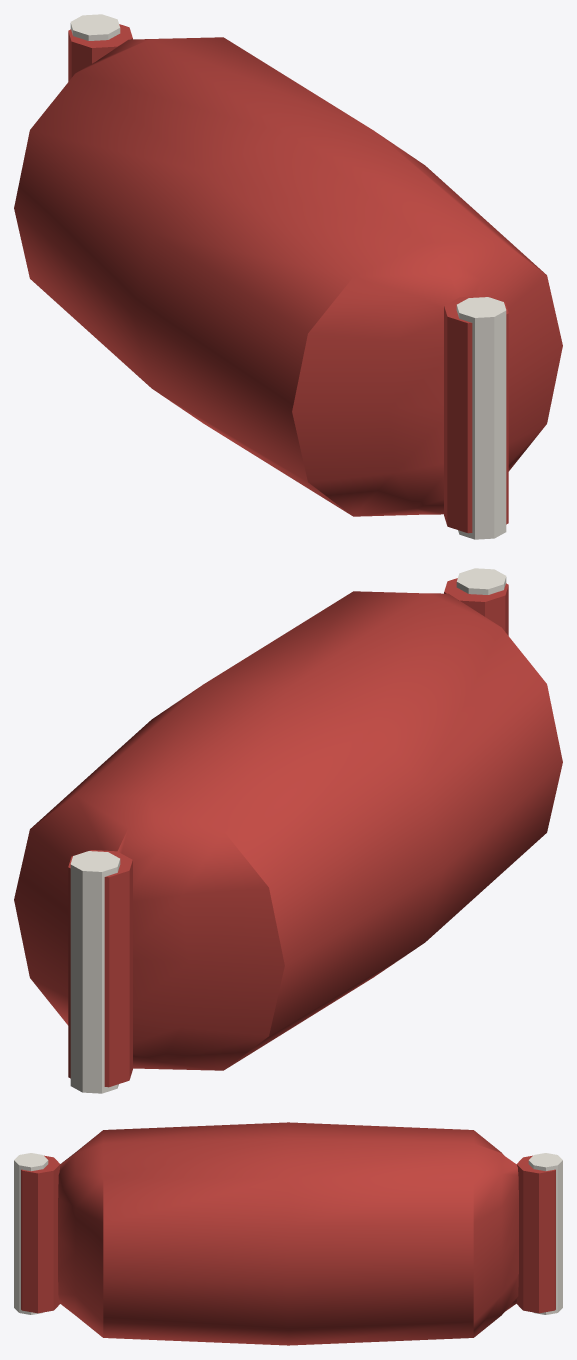
File: roll_bag_lod1.glb
3 renders of one model, top to bottom at view 1: azimuth 30°, elevation 25°; view 2: azimuth 150°, elevation 25°; view 3: azimuth 270°, elevation 25°, orthographic. The views are drawn at different scales.
Visible parts, largest first — view 1: roll_bag_lod1; view 2: roll_bag_lod1; view 3: roll_bag_lod1.
Part boxes in pixels (x1,y1,x2,y2): roll_bag_lod1: [14, 14, 562, 539]; roll_bag_lod1: [14, 568, 562, 1093]; roll_bag_lod1: [14, 1122, 562, 1345].
Size of the model in its own units: 0.2781 by 0.2448 by 0.64.
